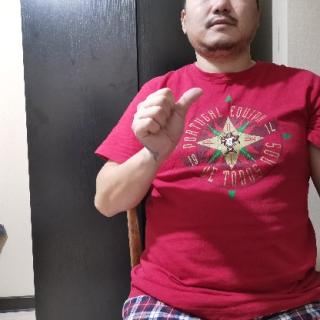WAW: (125, 84, 212, 166)
